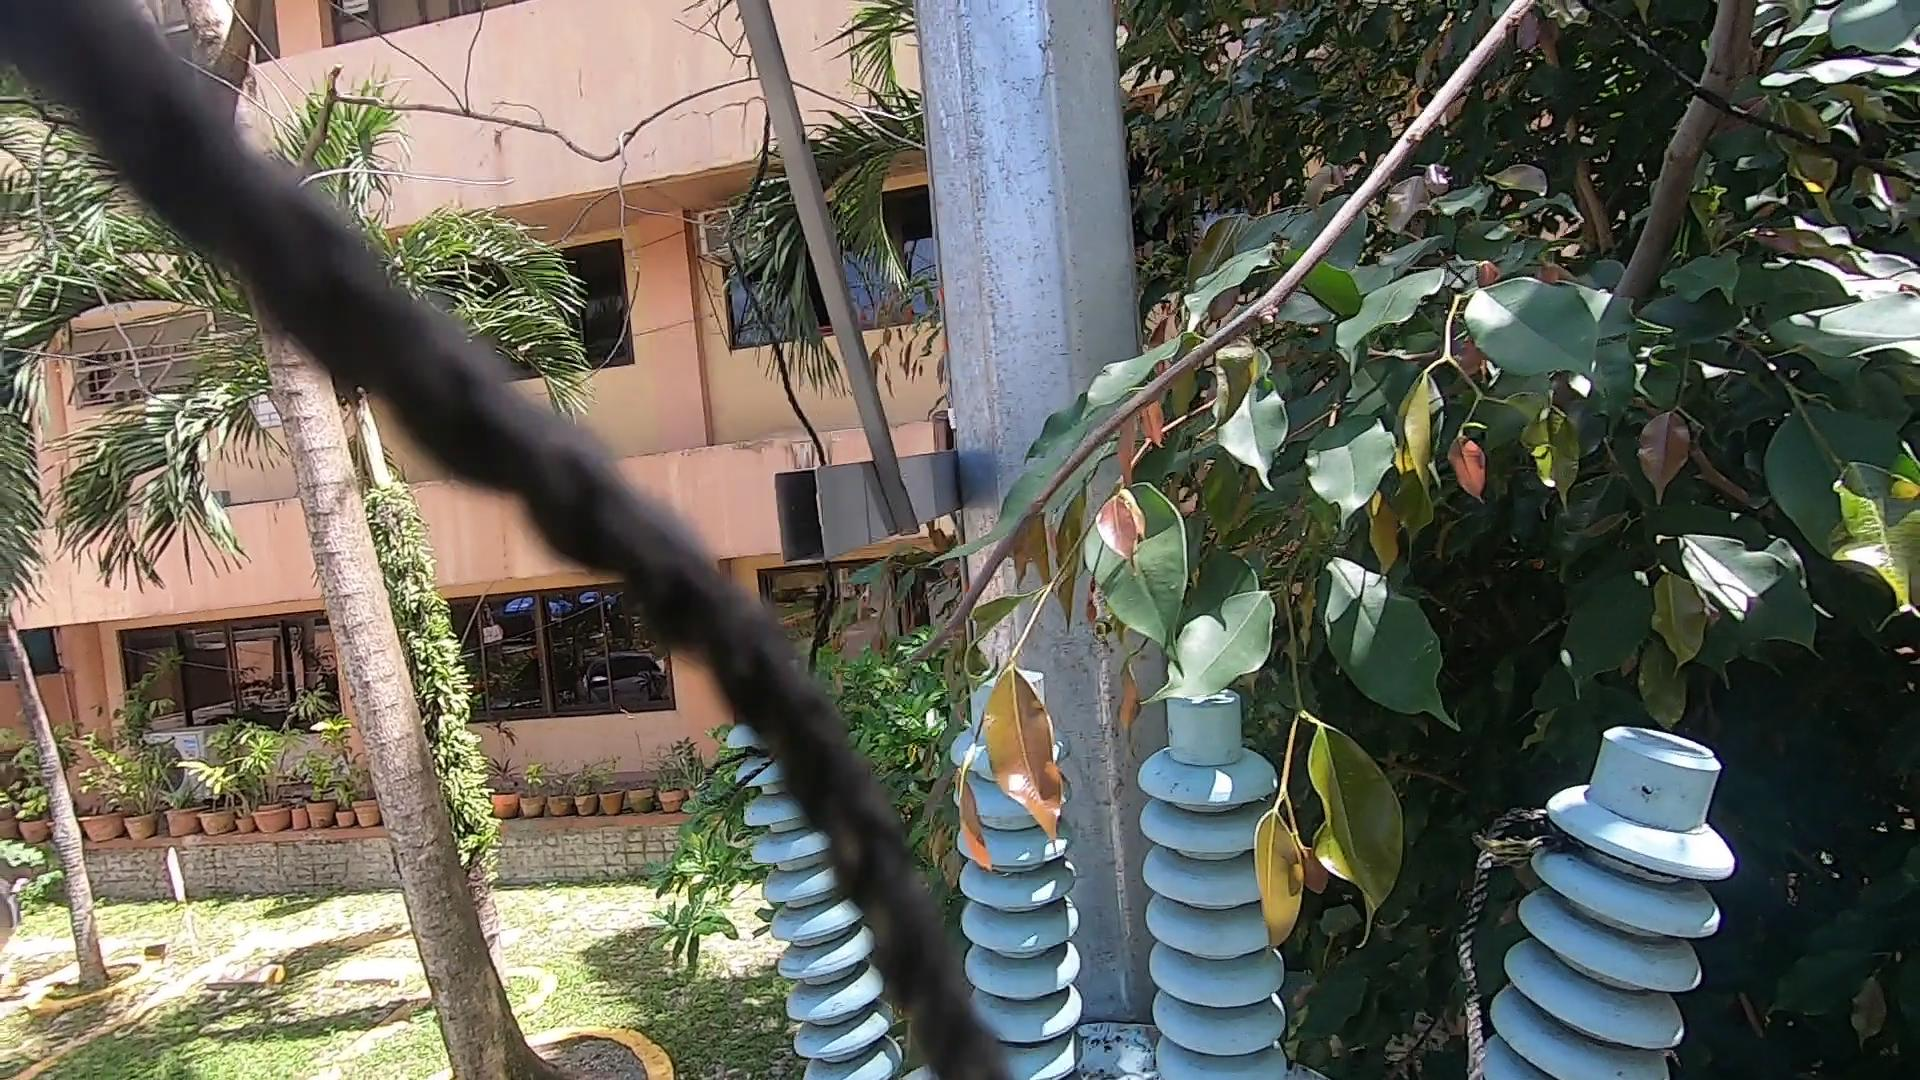tree branch: (882, 1, 1749, 663)
